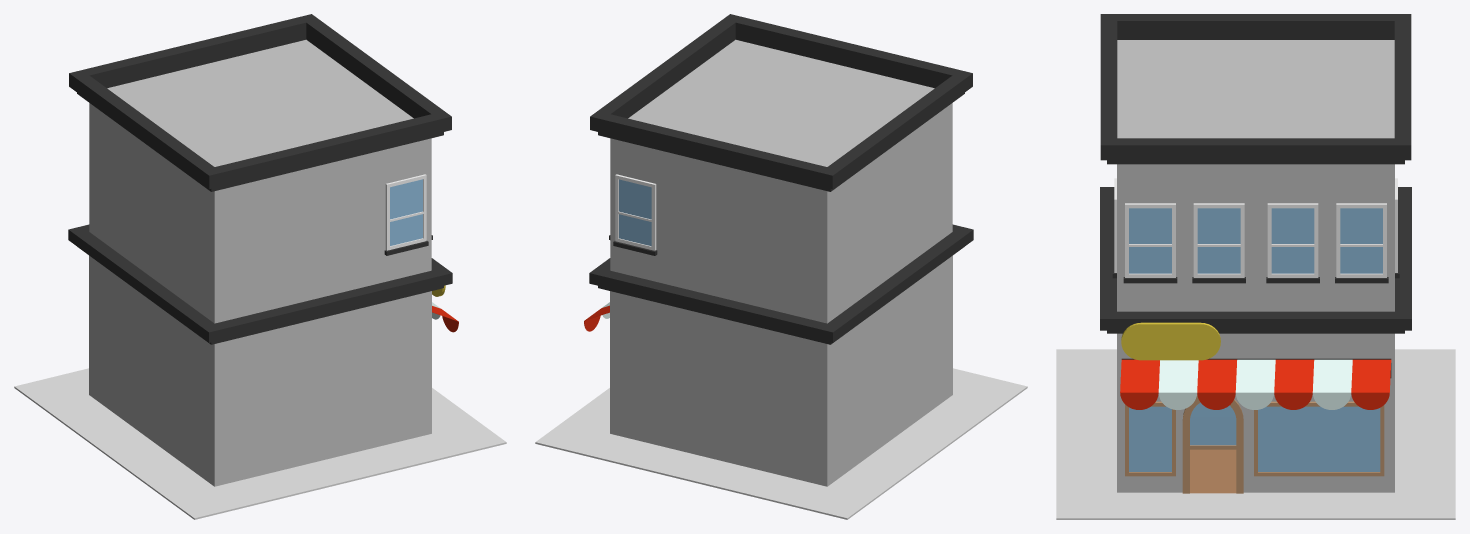
Rendered from building1.fbx.
3 views of the same model, side by side, from view 1: azimuth 30°, elevation 25°; view 2: azimuth 150°, elevation 25°; view 3: azimuth 270°, elevation 25° (orthographic). The views are drawn at different scales.
Parts seen in each view (by area): view 1: Building, Ground, SmallWindowLV1_3.002; view 2: Building, Ground, SmallWindowLV1_3.001; view 3: Building, Ground, Awning, LargeWindowLV0, SmallWindowLV1_1, SmallWindowLV1_2, SmallWindowLV1_0, SmallWindowLV1_3, SmallWindowLV0, Sign, DoorBody, GlassPane (+1 smaller).
Part boxes in pixels (<box>): Building: <box>68,14,452,486</box>; Ground: <box>14,368,506,519</box>; SmallWindowLV1_3.002: <box>384,174,428,255</box>; Building: <box>589,14,973,486</box>; Ground: <box>535,368,1027,519</box>; SmallWindowLV1_3.001: <box>613,174,657,255</box>; Building: <box>1100,14,1411,492</box>; Ground: <box>1056,349,1455,519</box>; Awning: <box>1120,358,1391,409</box>; LargeWindowLV0: <box>1254,401,1384,476</box>; SmallWindowLV1_1: <box>1192,203,1245,283</box>; SmallWindowLV1_2: <box>1266,203,1319,283</box>; SmallWindowLV1_0: <box>1123,203,1177,283</box>; SmallWindowLV1_3: <box>1335,203,1388,283</box>; SmallWindowLV0: <box>1125,401,1175,476</box>; Sign: <box>1121,322,1220,360</box>; DoorBody: <box>1190,449,1236,493</box>; GlassPane: <box>1190,402,1236,445</box>.
Bounding box in the file's own units: 2000 × 1966 × 2000.
